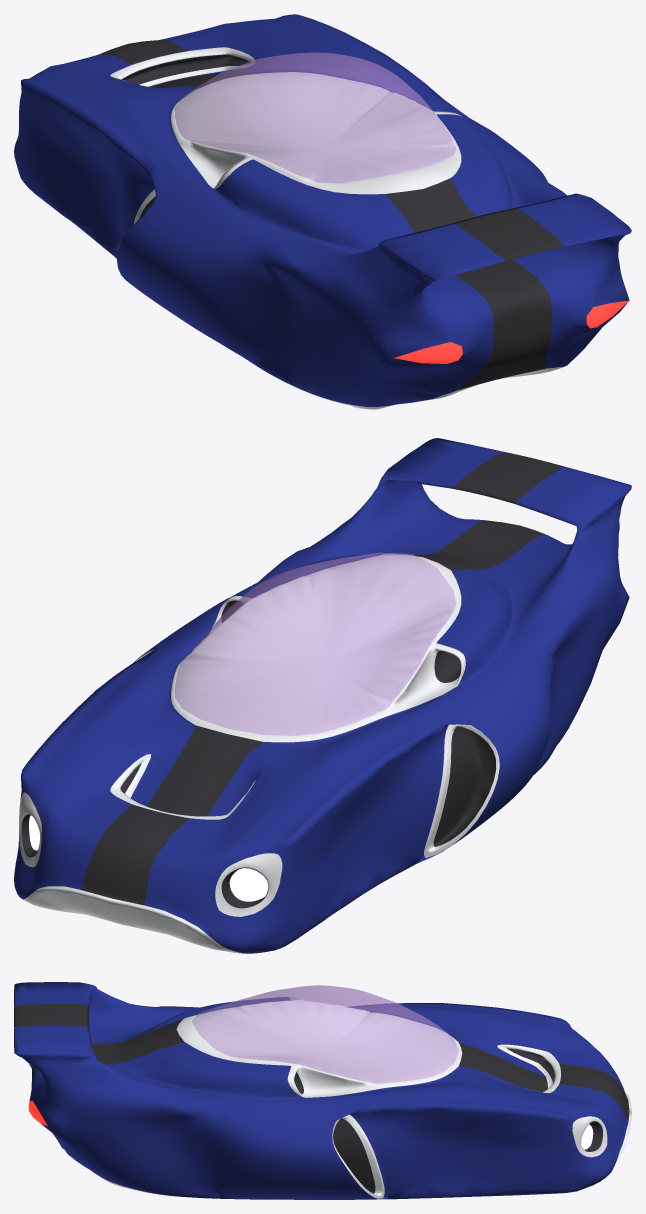
Rendered from v1-heritage.glb.
3 renders of one model, top to bottom at view 1: azimuth 30°, elevation 25°; view 2: azimuth 150°, elevation 25°; view 3: azimuth 270°, elevation 25°, orthographic. The views are drawn at different scales.
Parts seen in each view (by area): view 1: Body.001, Canopy; view 2: Body.001, Canopy; view 3: Body.001, Canopy.
Boxes of the visible parts, <box> form: Body.001: <box>14,14,631,409</box>; Canopy: <box>175,52,456,183</box>; Body.001: <box>14,438,631,953</box>; Canopy: <box>175,552,456,735</box>; Body.001: <box>14,982,631,1199</box>; Canopy: <box>192,985,458,1083</box>.
Size of the model in its own units: 2.06 by 1.12 by 4.01.
